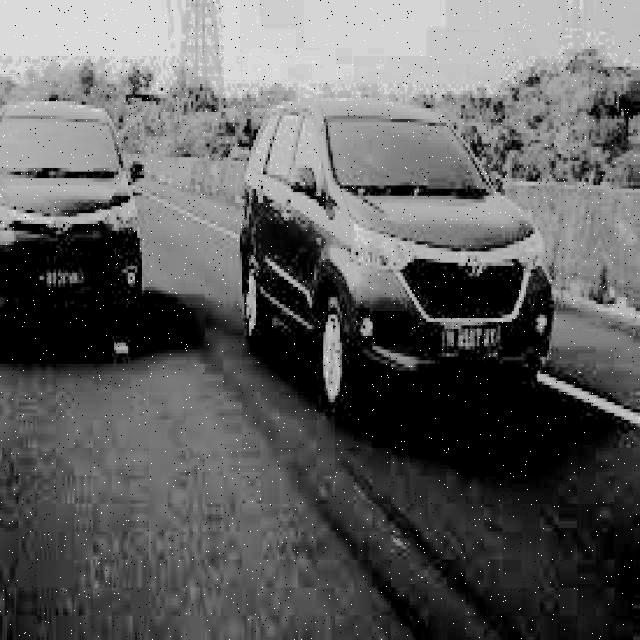Car: (242, 92, 564, 431), (0, 82, 148, 355)
